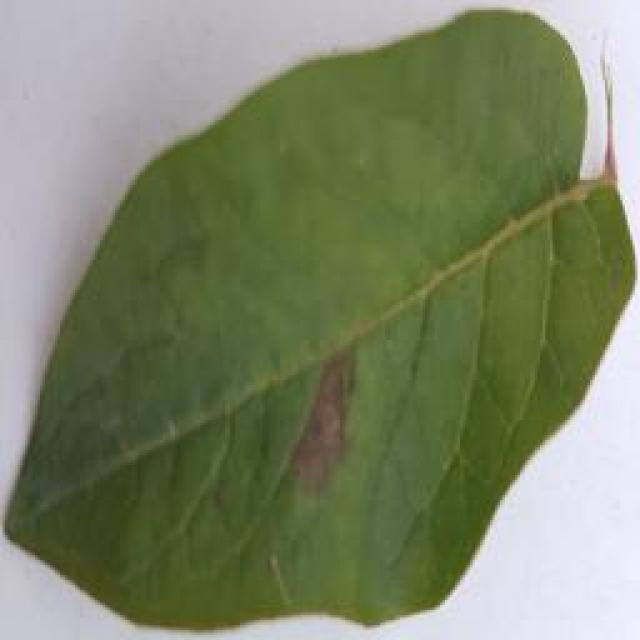Potato_Late_Blight: (14, 11, 636, 624)
